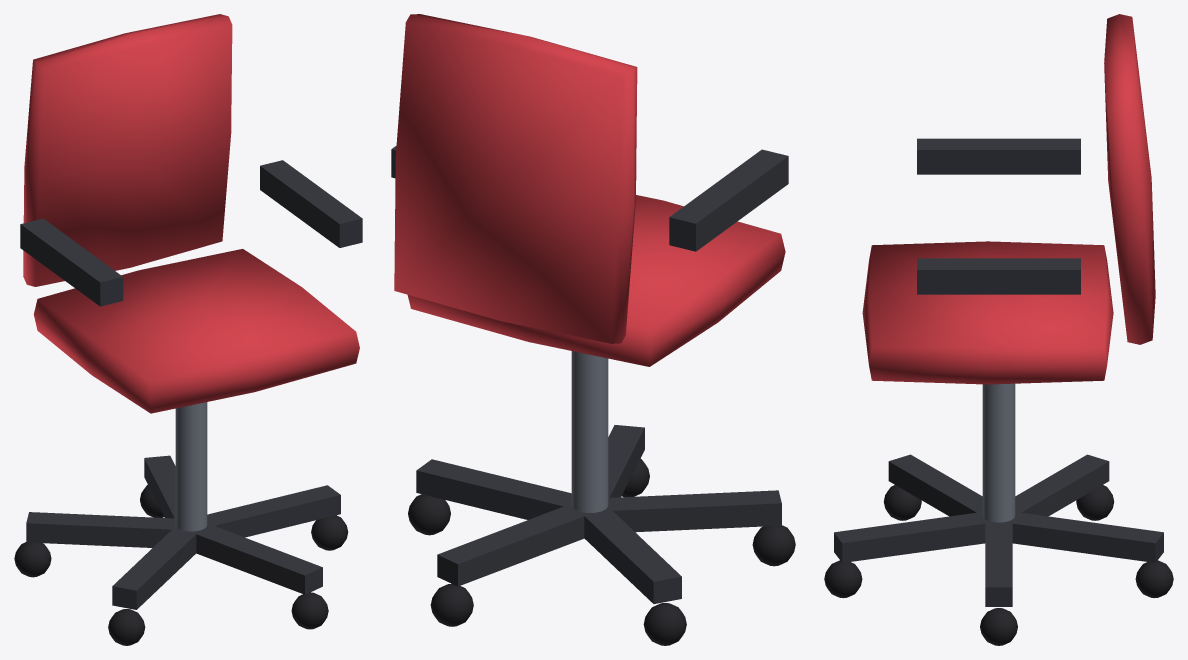
Rendered from office_chair.glb.
3 renders of one model, left to right at view 1: azimuth 30°, elevation 25°; view 2: azimuth 150°, elevation 25°; view 3: azimuth 270°, elevation 25°, orthographic. The views are drawn at different scales.
Visible parts, largest first — view 1: root; view 2: root; view 3: root.
Boxes of the visible parts, x1,y1,x2,y2 form: root: (14, 14, 362, 645); root: (391, 14, 795, 645); root: (824, 14, 1173, 645).
Size of the model in its own units: 0.62 by 1.05 by 0.6406.
